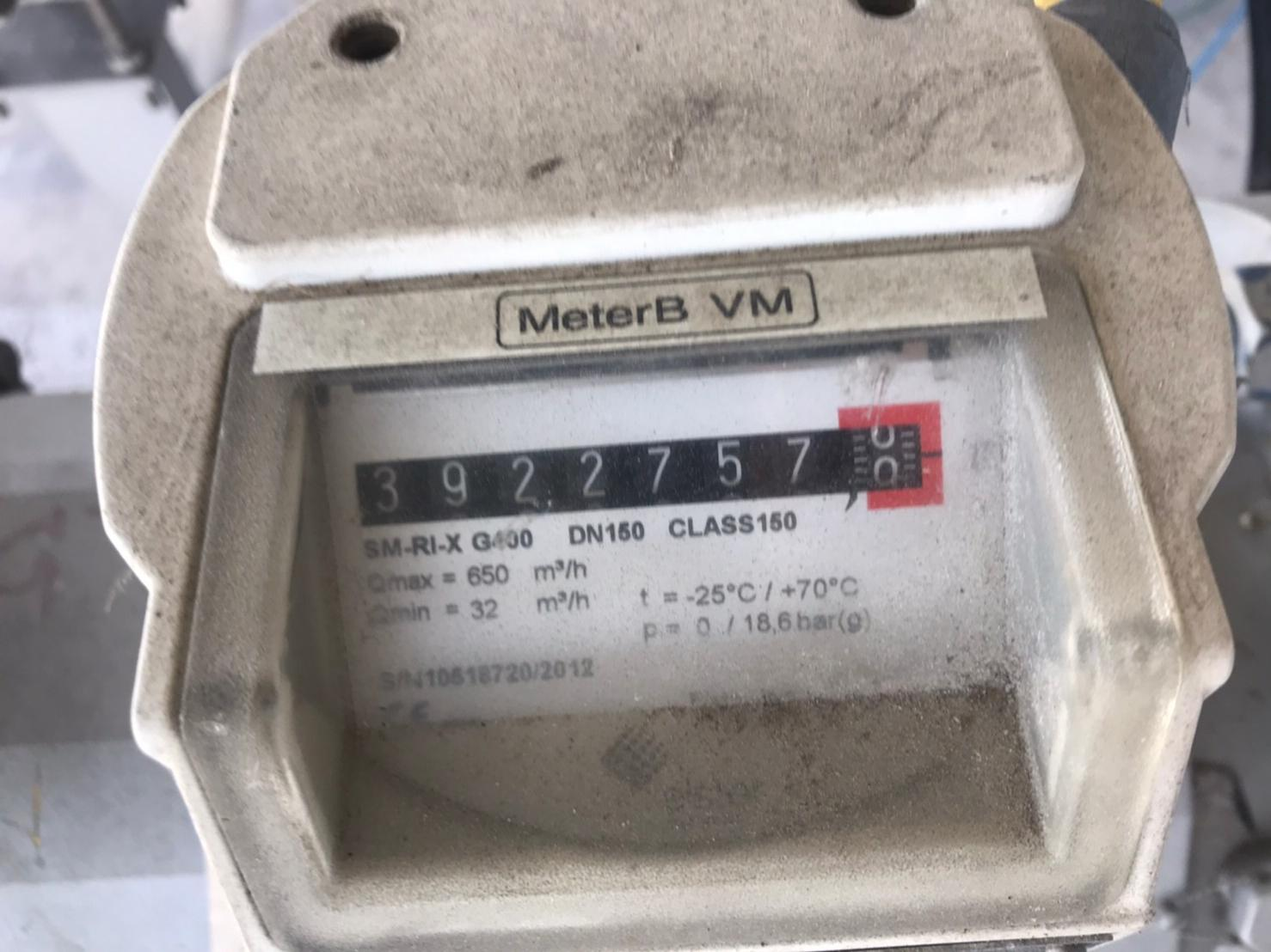analog_dial: (348, 392, 955, 554)
